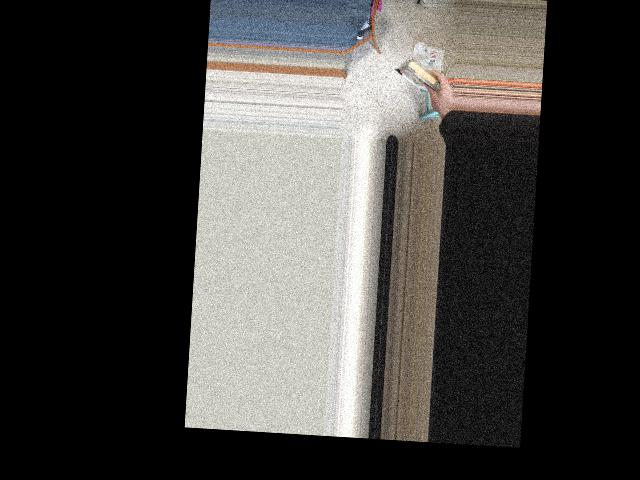cheese: (393, 56, 453, 96)
